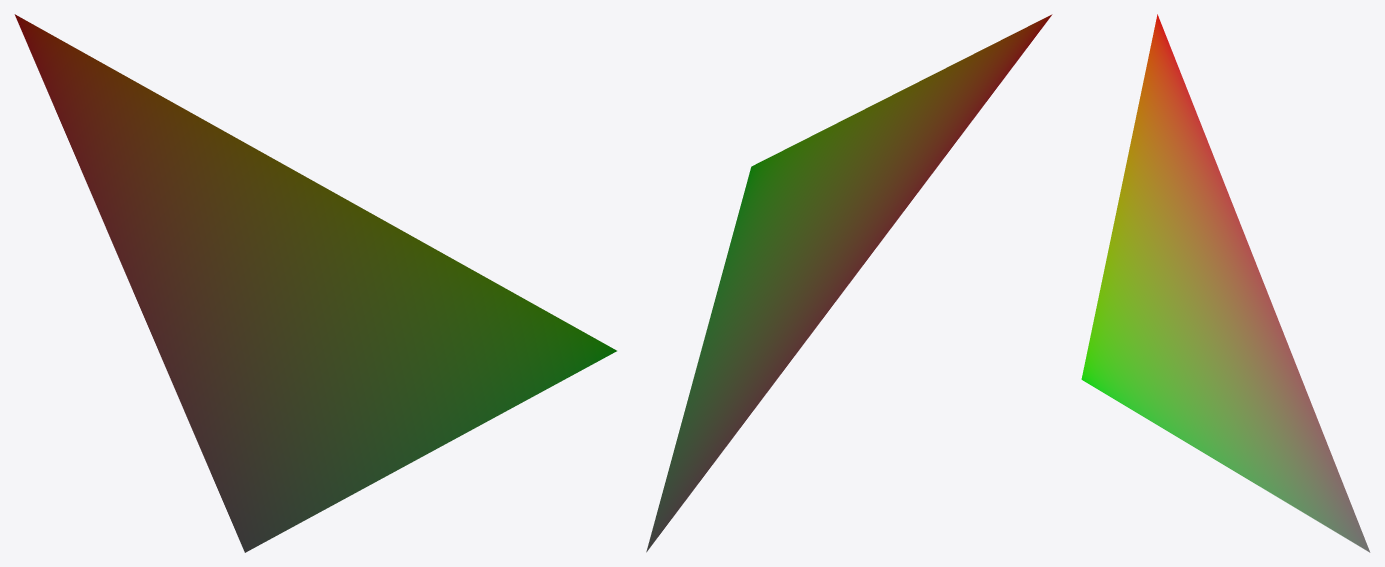
The model's file is start_border_patch_5.obj.
3 views of the same model, side by side, from view 1: azimuth 30°, elevation 25°; view 2: azimuth 150°, elevation 25°; view 3: azimuth 270°, elevation 25° (orthographic). The views are drawn at different scales.
Size of the model in its own units: 0.9272 by 1.31 by 0.8046.
